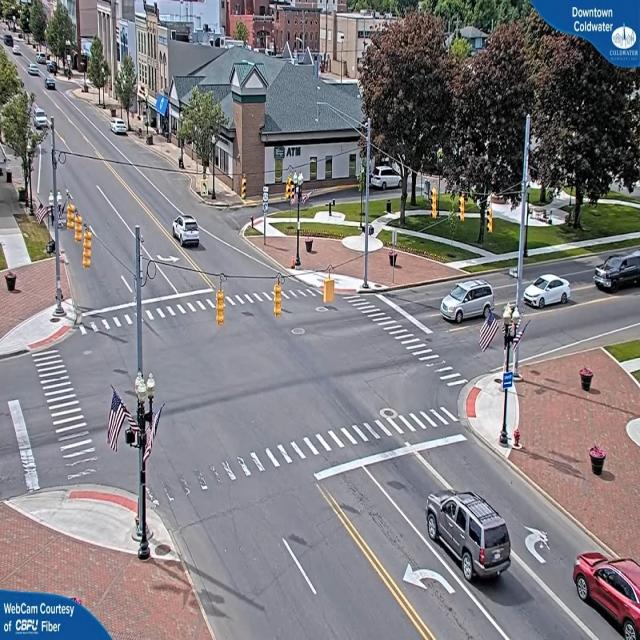car: (426, 492, 512, 584), (573, 554, 639, 640), (438, 278, 492, 326), (594, 252, 640, 294), (524, 272, 572, 308), (174, 215, 204, 248), (112, 120, 130, 136), (28, 63, 40, 75), (46, 80, 57, 92), (13, 46, 23, 55)
